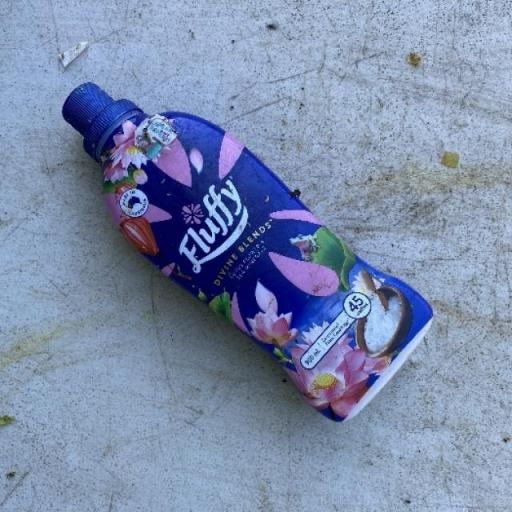plastic: (64, 83, 435, 425)
